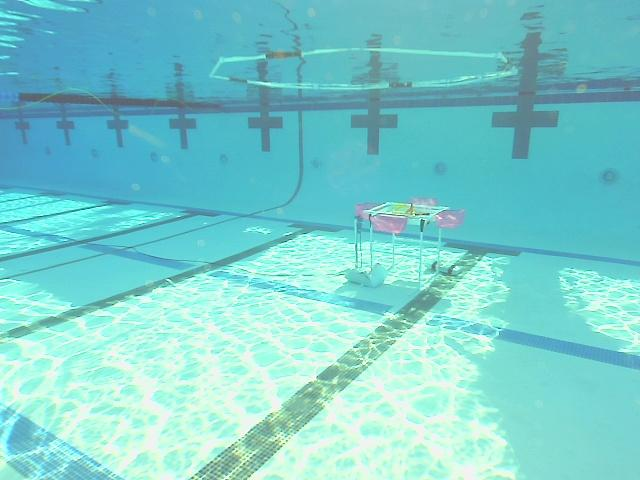table: (344, 198, 466, 295)
